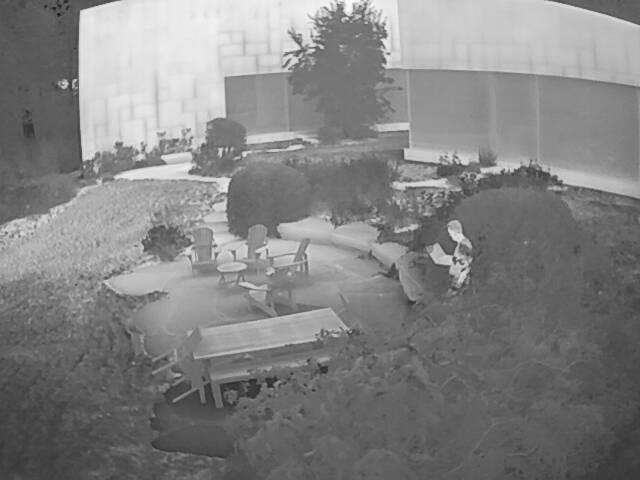person: (442, 219, 480, 324)
